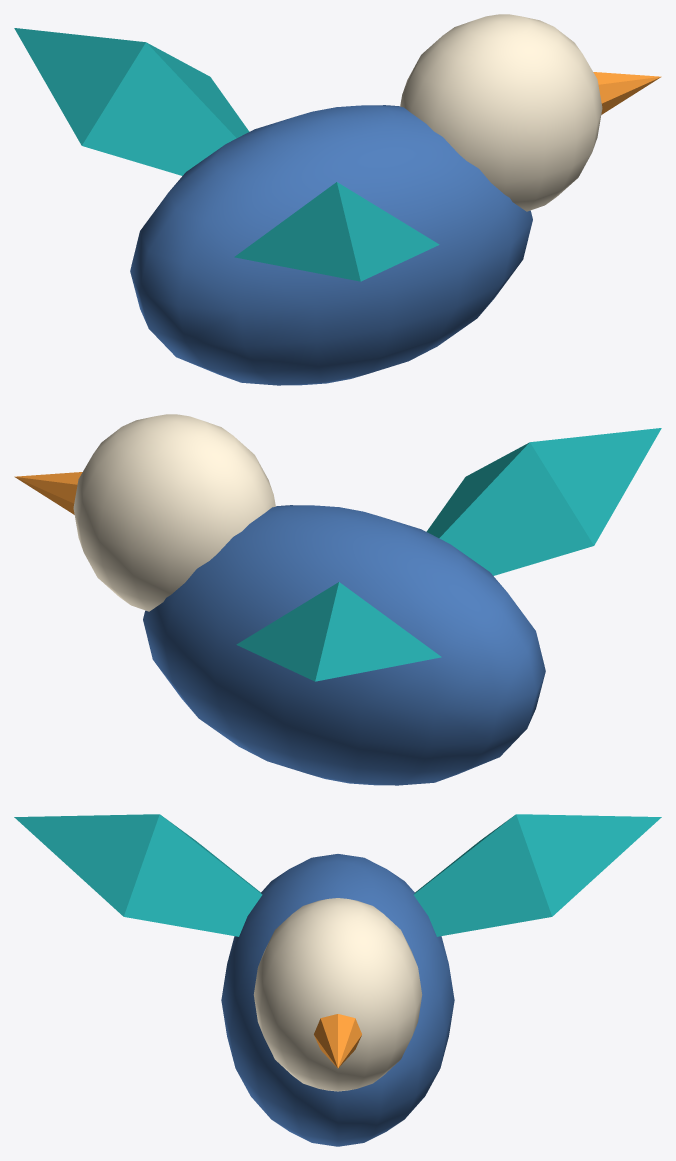
The model's file is Bird.fbx.
3 views of the same model, one above another, from view 1: azimuth 30°, elevation 25°; view 2: azimuth 150°, elevation 25°; view 3: azimuth 270°, elevation 25° (orthographic). The views are drawn at different scales.
Visible parts, largest first — view 1: GEO-Body; view 2: GEO-Body; view 3: GEO-Body.
Part boxes in pixels (x1,y1,x2,y2): GEO-Body: (14,14,661,385); GEO-Body: (14,414,661,785); GEO-Body: (14,814,661,1146).
Size of the model in its own units: 0.435 by 0.245 by 0.5.
